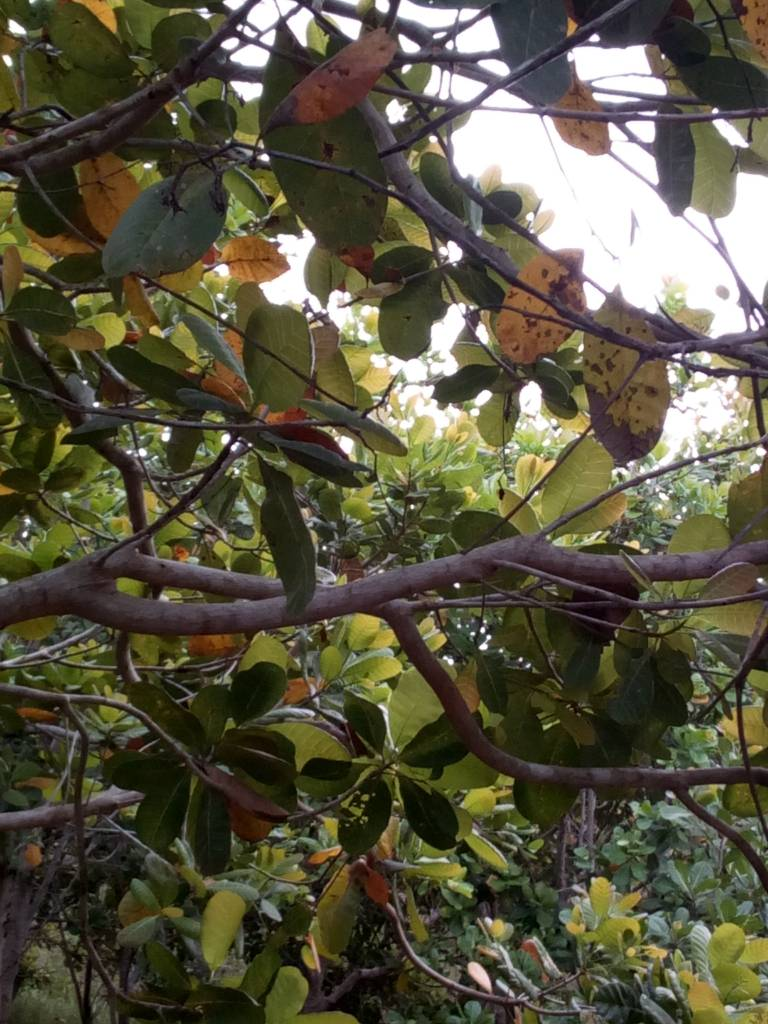Pestalotiose: (285, 119, 386, 236), (496, 247, 588, 360)
